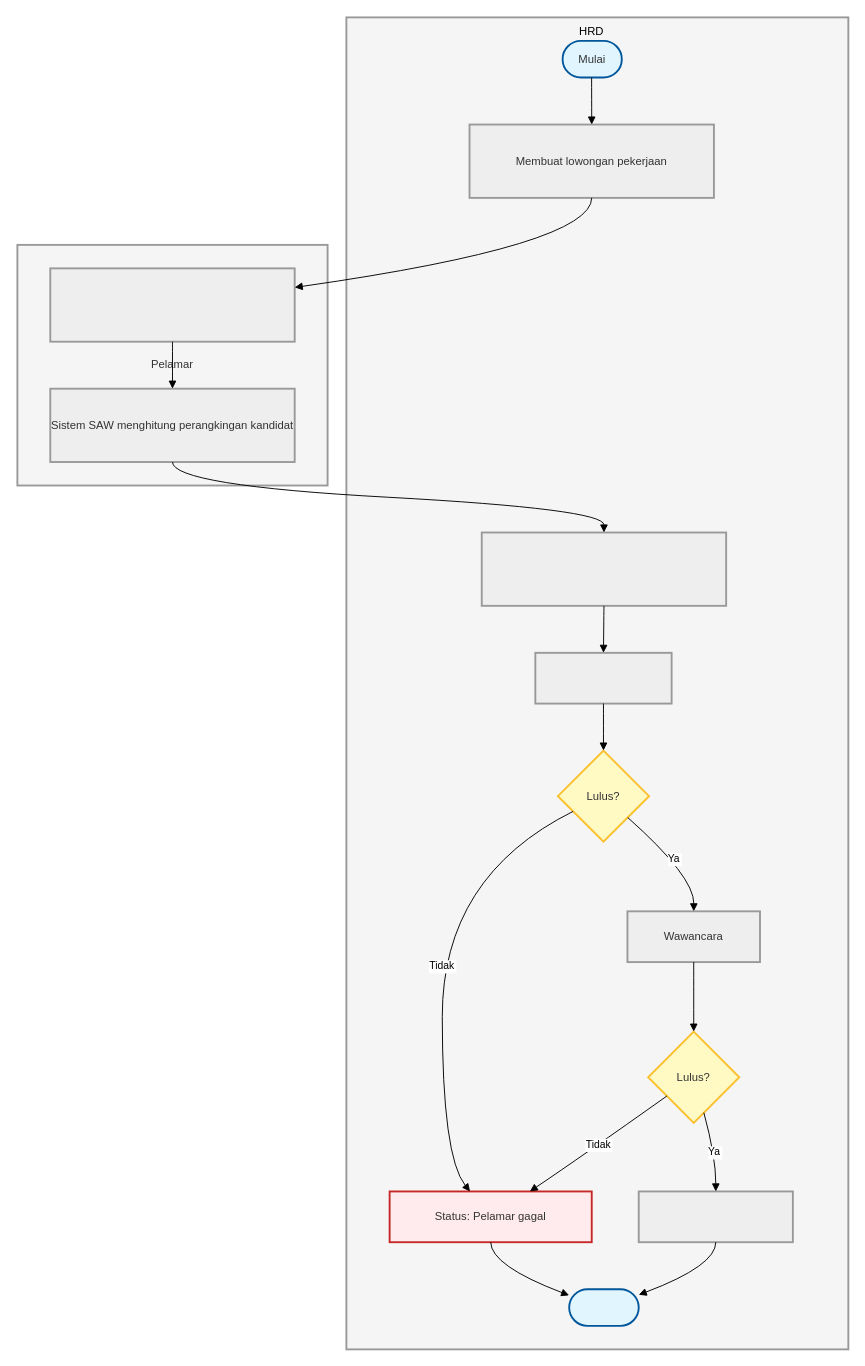
This 865x1366 diagram has some shape labels left out. The centre of each missing label's shape, as x and y in pixels:
"Diterima kerja" goes at point 715,1216.
"Melihat / daftar lowongan pekerjaan" goes at point 172,304.
"Selesai" goes at point 603,1307.
"Tes psikotes" goes at point 603,677.
"Validasi kandidat calon karyawan" goes at point 603,568.
